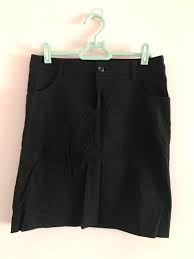F_tailored skirt: (5, 48, 181, 246)
